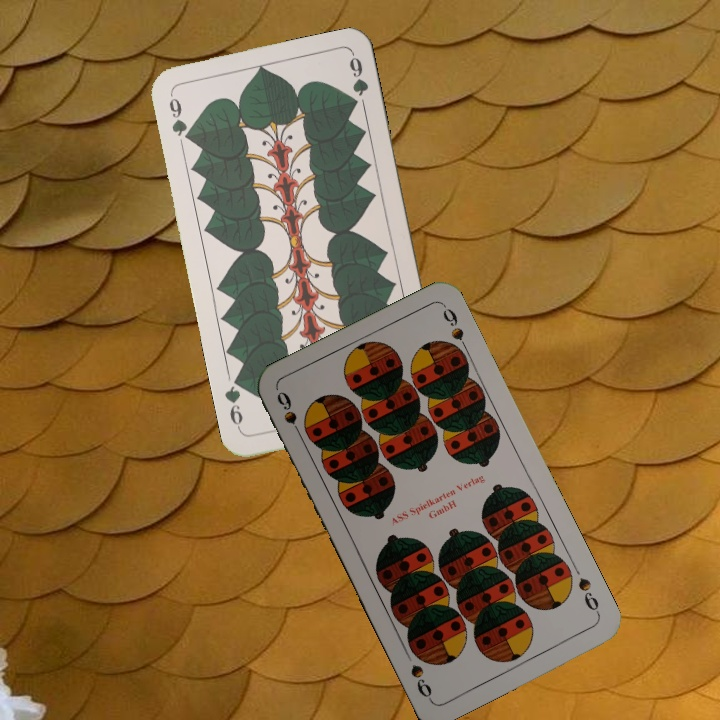G9: (165, 90, 194, 144)
S9: (272, 386, 306, 443), (574, 573, 603, 619)
